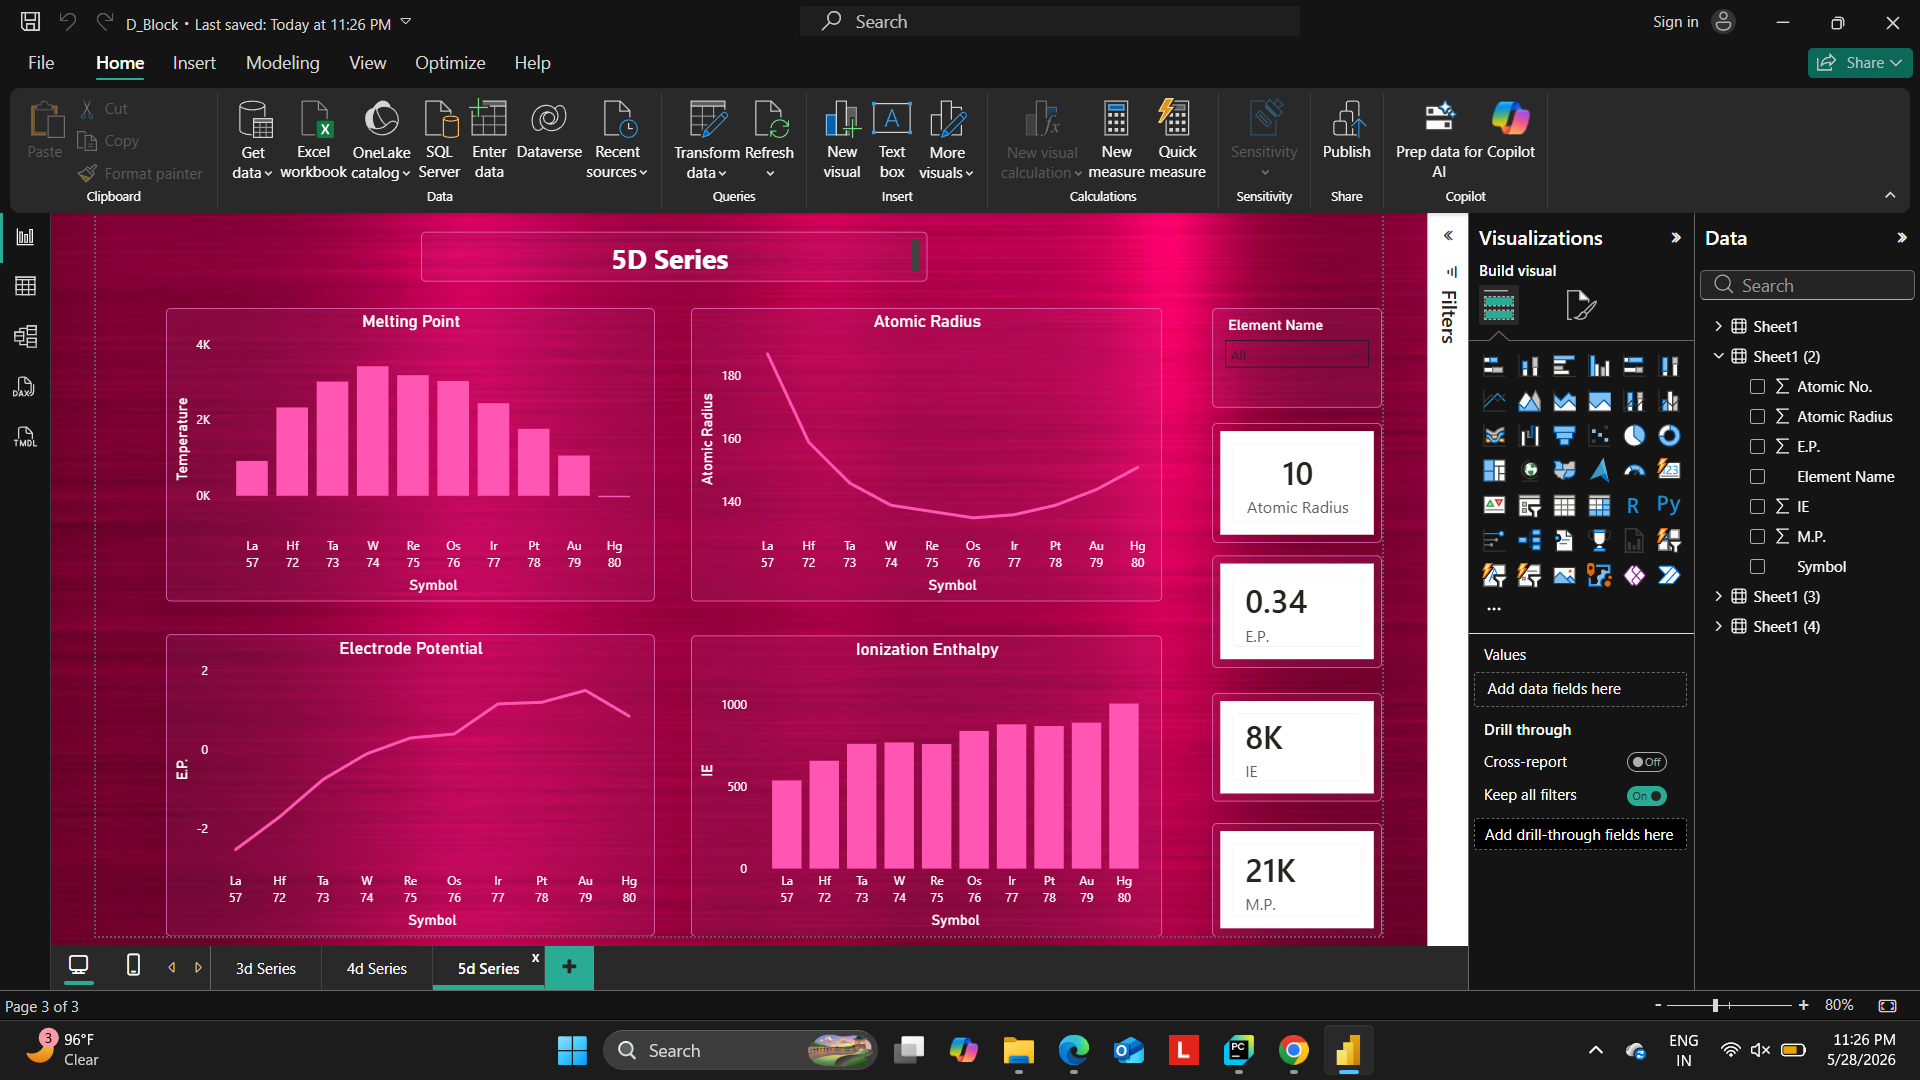

The page's visual inventory and layout, read from the dashboard file:
{"tool":"powerbi","page":{"name":"5d Series","canvas":[1280,720],"ordinal":2},"visuals":[{"type":"slicer","fields":{"Values":["Sheet1 (4).Element Name"]},"box":[1110.9,94.5,169.2,99.5],"z":0},{"type":"cardVisual","fields":{"Data":["Sum(Sheet1 (4).E.P.)"]},"box":[1110.9,340.8,169.2,112],"z":1000},{"type":"cardVisual","fields":{"Data":["Sum(Sheet1 (4).IE)"]},"box":[1110.9,477.7,169.2,108.2],"z":2000},{"type":"cardVisual","fields":{"Data":["Sum(Sheet1 (4).M.P.)"]},"box":[1110.9,607.1,169.2,113.2],"z":3000},{"type":"lineChart","title":"Atomic Radius","fields":{"Y":["Sum(Sheet1 (4).Atomic Radius)"],"Category":["Sheet1 (4).Atomic No.","Sheet1 (4).Symbol"]},"box":[592.1,94.5,469,292.3],"z":4000},{"type":"lineChart","title":"Electrode Potential","fields":{"Category":["Sheet1 (4).Atomic No.","Sheet1 (4).Symbol"],"Y":["Sum(Sheet1 (4).E.P.)"]},"box":[69.7,419.2,486.4,301],"z":5000},{"type":"clusteredColumnChart","title":"Melting Point","fields":{"Category":["Sheet1 (4).Atomic No.","Sheet1 (4).Symbol"],"Y":["Sum(Sheet1 (4).M.P.)"]},"box":[69.7,94.5,486.4,292.3],"z":6000},{"type":"clusteredColumnChart","title":"Ionization Enthalpy","fields":{"Category":["Sheet1 (4).Atomic No.","Sheet1 (4).Symbol"],"Y":["Sum(Sheet1 (4).IE)"]},"box":[592.1,420.5,469,299.8],"z":7000},{"type":"textbox","box":[323.4,18.7,503.8,49.8],"z":8000},{"type":"cardVisual","fields":{"Data":["CountNonNull(Sheet1 (4).Atomic Radius)"]},"box":[1110.9,209,169.2,119.4],"z":9000}]}

Visuals, with their boxes on the page's 1280x720 design canvas (x1, y1, x2, y2). These are canvas units, not pixel positions in the 1920x1080 screenshot, which may show the page scaled, cropped or inside an application window:
slicer - Sheet1 (4).Element Name: <bbox>1111, 94, 1280, 194</bbox>
cardVisual - Sum(Sheet1 (4).E.P.): <bbox>1111, 341, 1280, 453</bbox>
cardVisual - Sum(Sheet1 (4).IE): <bbox>1111, 478, 1280, 586</bbox>
cardVisual - Sum(Sheet1 (4).M.P.): <bbox>1111, 607, 1280, 720</bbox>
"Atomic Radius" lineChart: <bbox>592, 94, 1061, 387</bbox>
"Electrode Potential" lineChart: <bbox>70, 419, 556, 720</bbox>
"Melting Point" clusteredColumnChart: <bbox>70, 94, 556, 387</bbox>
"Ionization Enthalpy" clusteredColumnChart: <bbox>592, 420, 1061, 720</bbox>
textbox: <bbox>323, 19, 827, 68</bbox>
cardVisual - CountNonNull(Sheet1 (4).Atomic Radius): <bbox>1111, 209, 1280, 328</bbox>
